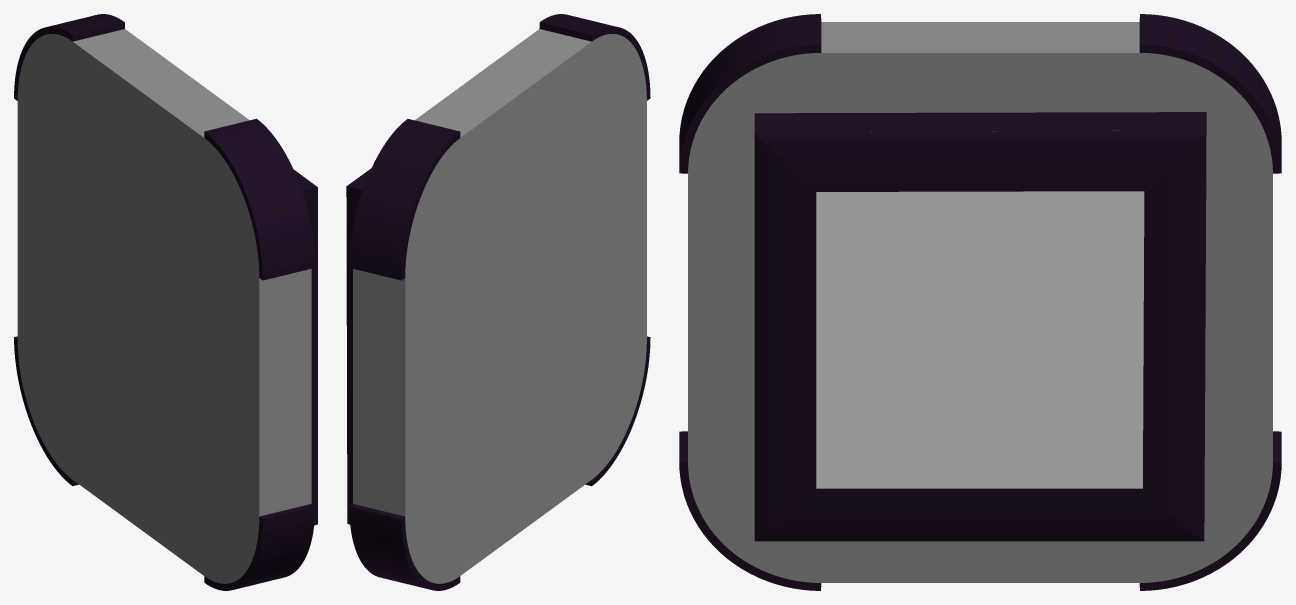
The model's file is harpoon_control_head.fbx.
The picture shows the model from 3 angles, left to right: view 1: azimuth 30°, elevation 25°; view 2: azimuth 150°, elevation 25°; view 3: azimuth 270°, elevation 25°; orthographic projection. The views are drawn at different scales.
Parts seen in each view (by area): view 1: Cube.001; view 2: Cube.001; view 3: Cube.001.
Boxes of the visible parts, bbox=[...] form: Cube.001: bbox=[14, 14, 317, 590]; Cube.001: bbox=[346, 14, 650, 590]; Cube.001: bbox=[679, 14, 1281, 590].
Bounding box in the file's own units: 87.08 × 412 × 412.
